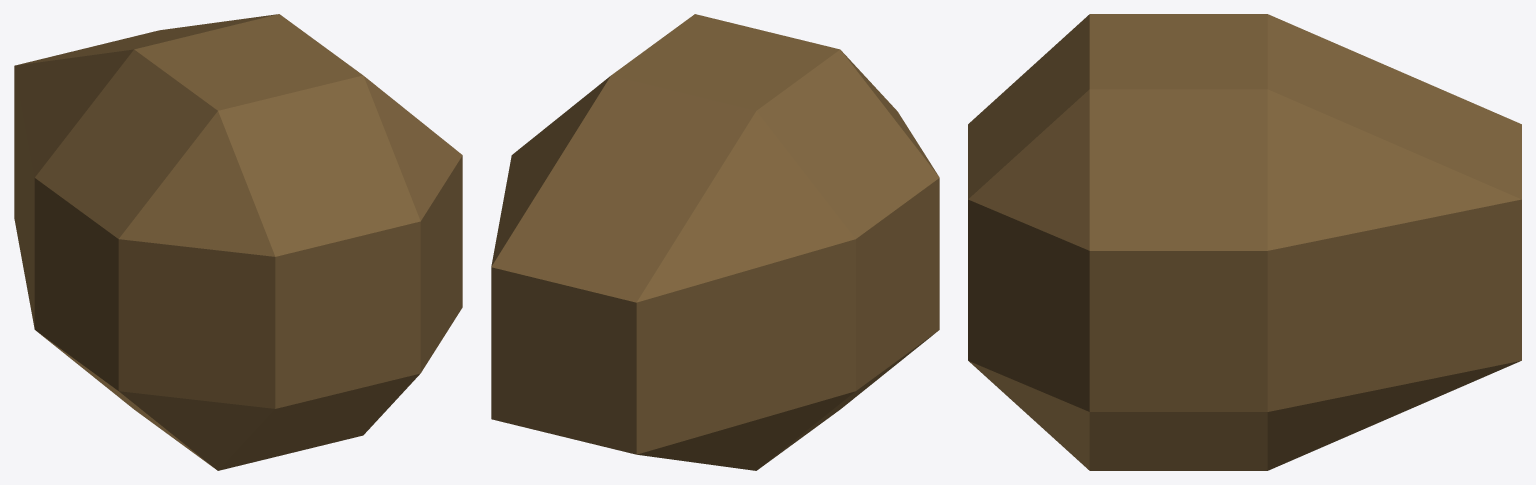
File: Papa.fbx
3 views of the same model, side by side, from view 1: azimuth 30°, elevation 25°; view 2: azimuth 150°, elevation 25°; view 3: azimuth 270°, elevation 25° (orthographic). The views are drawn at different scales.
Parts seen in each view (by area): view 1: Papa; view 2: Papa; view 3: Papa.
Boxes of the visible parts, <box> form: Papa: <box>14,14,462,470</box>; Papa: <box>491,14,939,470</box>; Papa: <box>968,14,1521,470</box>.
Size of the model in its own units: 65.31 by 65.31 by 85.86.
